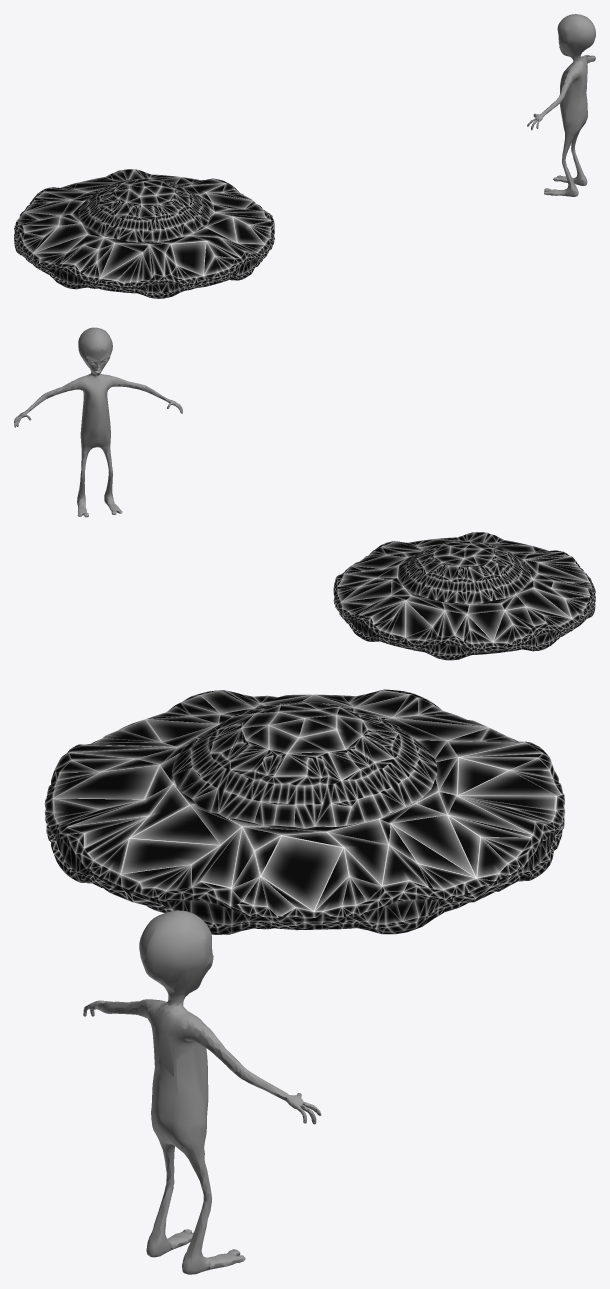
File: frame_053.obj
The picture shows the model from 3 angles, top to bottom: view 1: azimuth 30°, elevation 25°; view 2: azimuth 150°, elevation 25°; view 3: azimuth 270°, elevation 25°; orthographic projection. The views are drawn at different scales.
Visible parts, largest first — view 1: 13884_UFO_Saucer_v1_l2, 10469_GrayAlien_v01; view 2: 13884_UFO_Saucer_v1_l2, 10469_GrayAlien_v01; view 3: 13884_UFO_Saucer_v1_l2, 10469_GrayAlien_v01.
Boxes of the visible parts, box(x1,y1,x2,y2) form: 13884_UFO_Saucer_v1_l2: box(14, 169, 274, 298); 10469_GrayAlien_v01: box(527, 14, 595, 196); 13884_UFO_Saucer_v1_l2: box(333, 532, 595, 660); 10469_GrayAlien_v01: box(14, 327, 182, 517); 13884_UFO_Saucer_v1_l2: box(44, 689, 565, 934); 10469_GrayAlien_v01: box(83, 910, 321, 1274).
Size of the model in its own units: 31.59 by 10.12 by 12.7.
